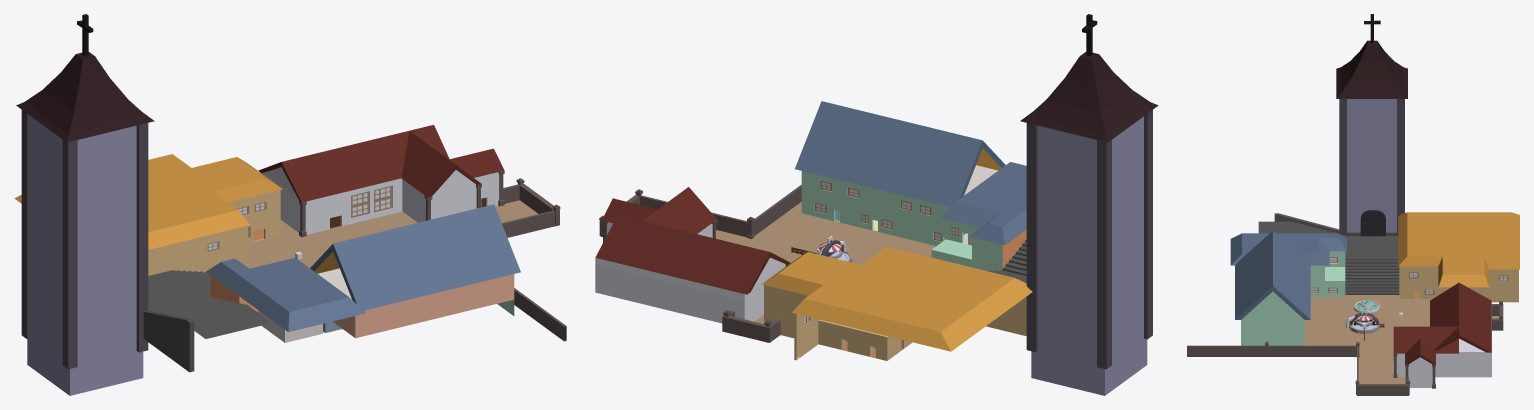
Rendered from metal_door.fbx.
3 renders of one model, left to right at view 1: azimuth 30°, elevation 25°; view 2: azimuth 150°, elevation 25°; view 3: azimuth 270°, elevation 25°, orthographic. The views are drawn at different scales.
Parts seen in each view (by area): view 1: City; view 2: City; view 3: City.
Part boxes in pixels (box(x1,y1,x2,y2)): City: box(14, 14, 566, 395); City: box(595, 14, 1158, 395); City: box(1187, 14, 1519, 395).
Size of what is drawn, in the model's own units: 10708 by 7177 by 8626.
